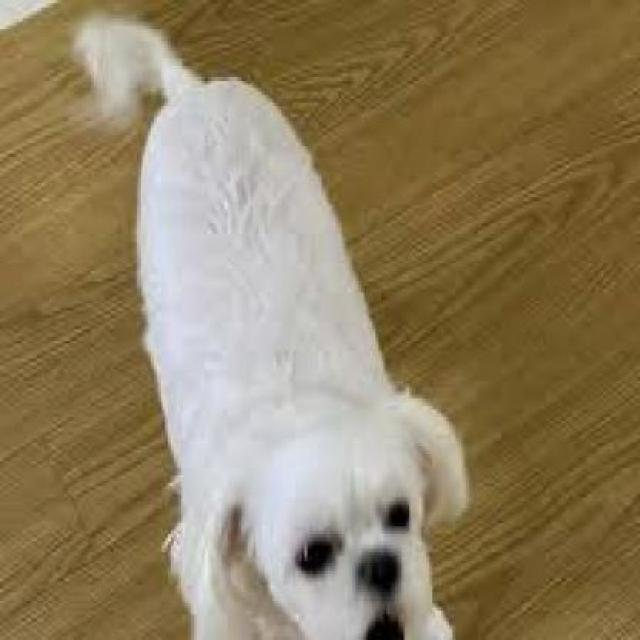Dog: (63, 8, 475, 637)
